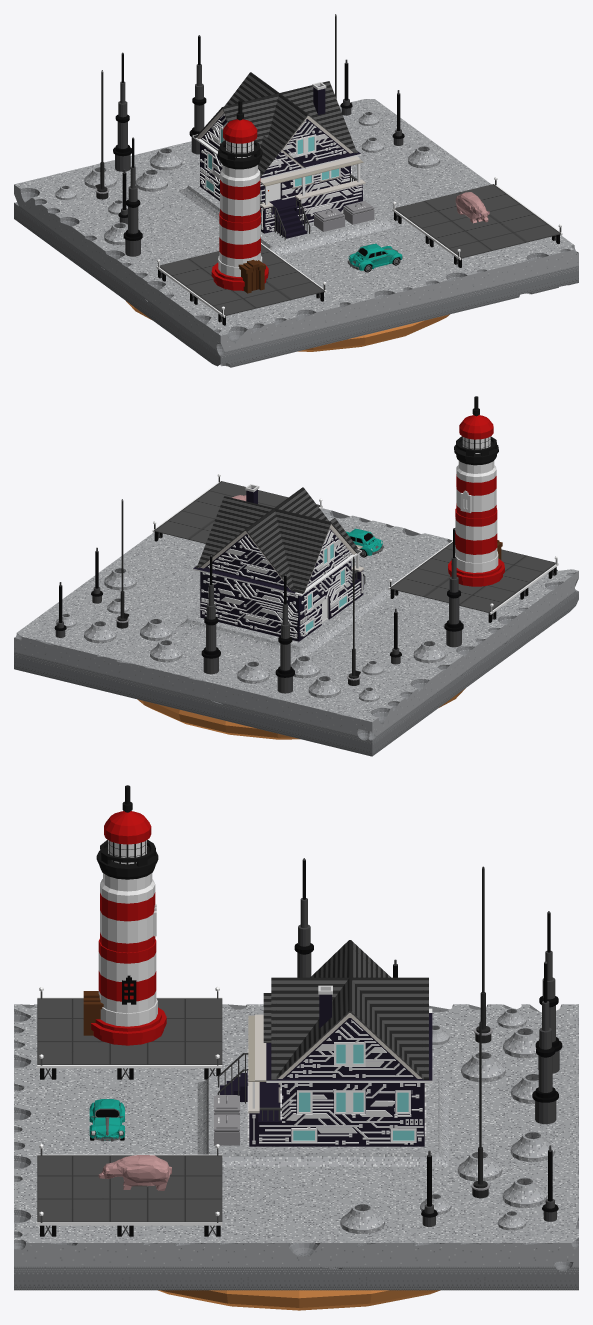
3 views of the same model, one above another, from view 1: azimuth 30°, elevation 25°; view 2: azimuth 150°, elevation 25°; view 3: azimuth 270°, elevation 25° (orthographic). The views are drawn at different scales.
Visible parts, largest first — view 1: Cube.027, Cube.918, OBJRANDOM_LIGHTHOUSE, Cube.026, Cube.025, Cube.028, UNDERGROUND_PIZZA, Cylinder.021, Cylinder.020, VEHICLES_VOLKSWAGEN, Cylinder.017, ANIMAL_HIPOPOTAMO (+7 smaller); view 2: Cube.027, Cube.918, OBJRANDOM_LIGHTHOUSE, Cube.025, Cube.028, Cube.026, UNDERGROUND_PIZZA, Cylinder.021, Cylinder.017, Cylinder.020, VEHICLES_VOLKSWAGEN, Cylinder.024 (+8 smaller); view 3: Cube.027, Cube.918, OBJRANDOM_LIGHTHOUSE, Cube.026, Cube.025, Cube.028, UNDERGROUND_PIZZA, Cylinder.017, ANIMAL_HIPOPOTAMO, VEHICLES_VOLKSWAGEN, Cylinder.020, Cylinder.021 (+9 smaller).
Part boxes in pixels (x1,y1,x2,y2): Cube.027: [14, 99, 578, 367]; Cube.918: [192, 72, 365, 239]; OBJRANDOM_LIGHTHOUSE: [211, 100, 268, 293]; Cube.026: [392, 177, 562, 267]; Cube.025: [156, 235, 326, 325]; Cube.028: [179, 182, 395, 255]; UNDERGROUND_PIZZA: [126, 301, 449, 351]; Cylinder.021: [123, 137, 142, 256]; Cylinder.020: [113, 52, 131, 171]; VEHICLES_VOLKSWAGEN: [347, 243, 402, 272]; Cylinder.017: [189, 35, 206, 154]; ANIMAL_HIPOPOTAMO: [455, 192, 489, 223]; Cube.027: [14, 508, 578, 756]; Cube.918: [193, 484, 365, 641]; OBJRANDOM_LIGHTHOUSE: [448, 396, 504, 586]; Cube.025: [388, 541, 558, 622]; Cube.028: [177, 580, 390, 657]; Cube.026: [152, 474, 322, 543]; UNDERGROUND_PIZZA: [137, 688, 465, 739]; Cylinder.021: [444, 528, 463, 647]; Cylinder.017: [201, 555, 220, 674]; Cylinder.020: [275, 574, 294, 693]; VEHICLES_VOLKSWAGEN: [345, 528, 383, 557]; Cylinder.024: [115, 499, 129, 628]; Cube.027: [14, 1004, 578, 1290]; Cube.918: [217, 940, 432, 1146]; OBJRANDOM_LIGHTHOUSE: [83, 785, 166, 1045]; Cube.026: [37, 1144, 222, 1236]; Cube.025: [37, 986, 222, 1079]; Cube.028: [197, 1076, 448, 1166]; UNDERGROUND_PIZZA: [158, 1290, 440, 1310]; Cylinder.017: [532, 961, 558, 1124]; ANIMAL_HIPOPOTAMO: [98, 1155, 171, 1190]; VEHICLES_VOLKSWAGEN: [89, 1099, 125, 1141]; Cylinder.020: [535, 911, 562, 1073]; Cylinder.021: [294, 858, 313, 977].
Size of the model in its own units: 4000 by 2678 by 4000.
Materials: 44 (4 with a texture image).
